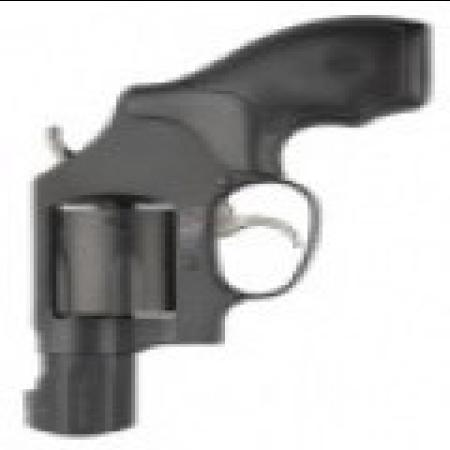Pistol: (15, 19, 427, 434)
